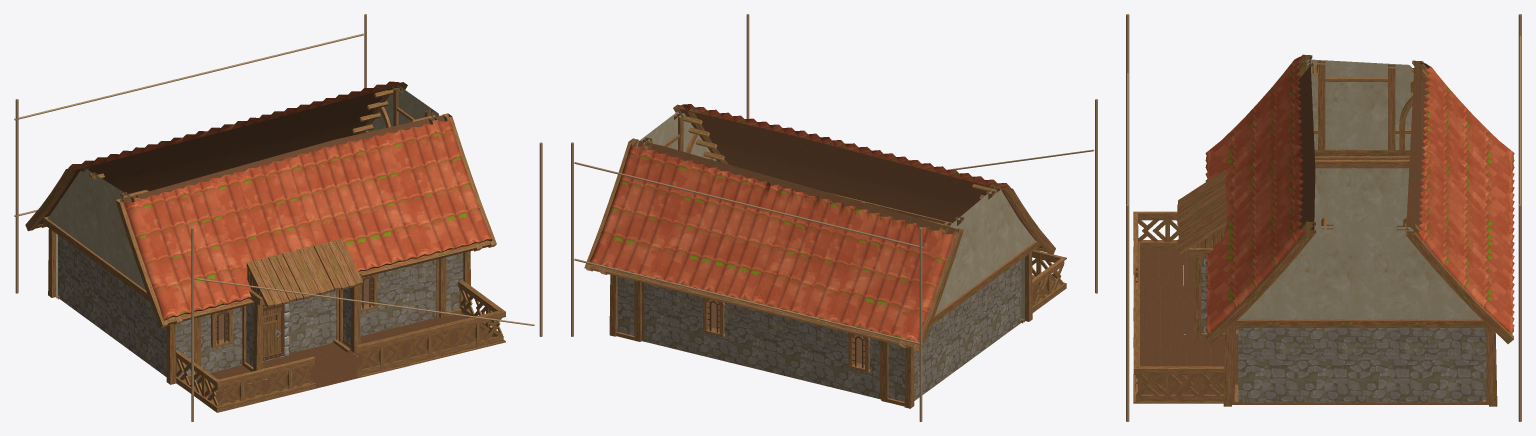
Rendered from Building4Whole_P3.glb.
The picture shows the model from 3 angles, left to right: view 1: azimuth 30°, elevation 25°; view 2: azimuth 150°, elevation 25°; view 3: azimuth 270°, elevation 25°; orthographic projection. The views are drawn at different scales.
Bounding box in the file's own units: 14.63 × 7.68 × 12.73.
Materials: 8 (6 with a texture image).
